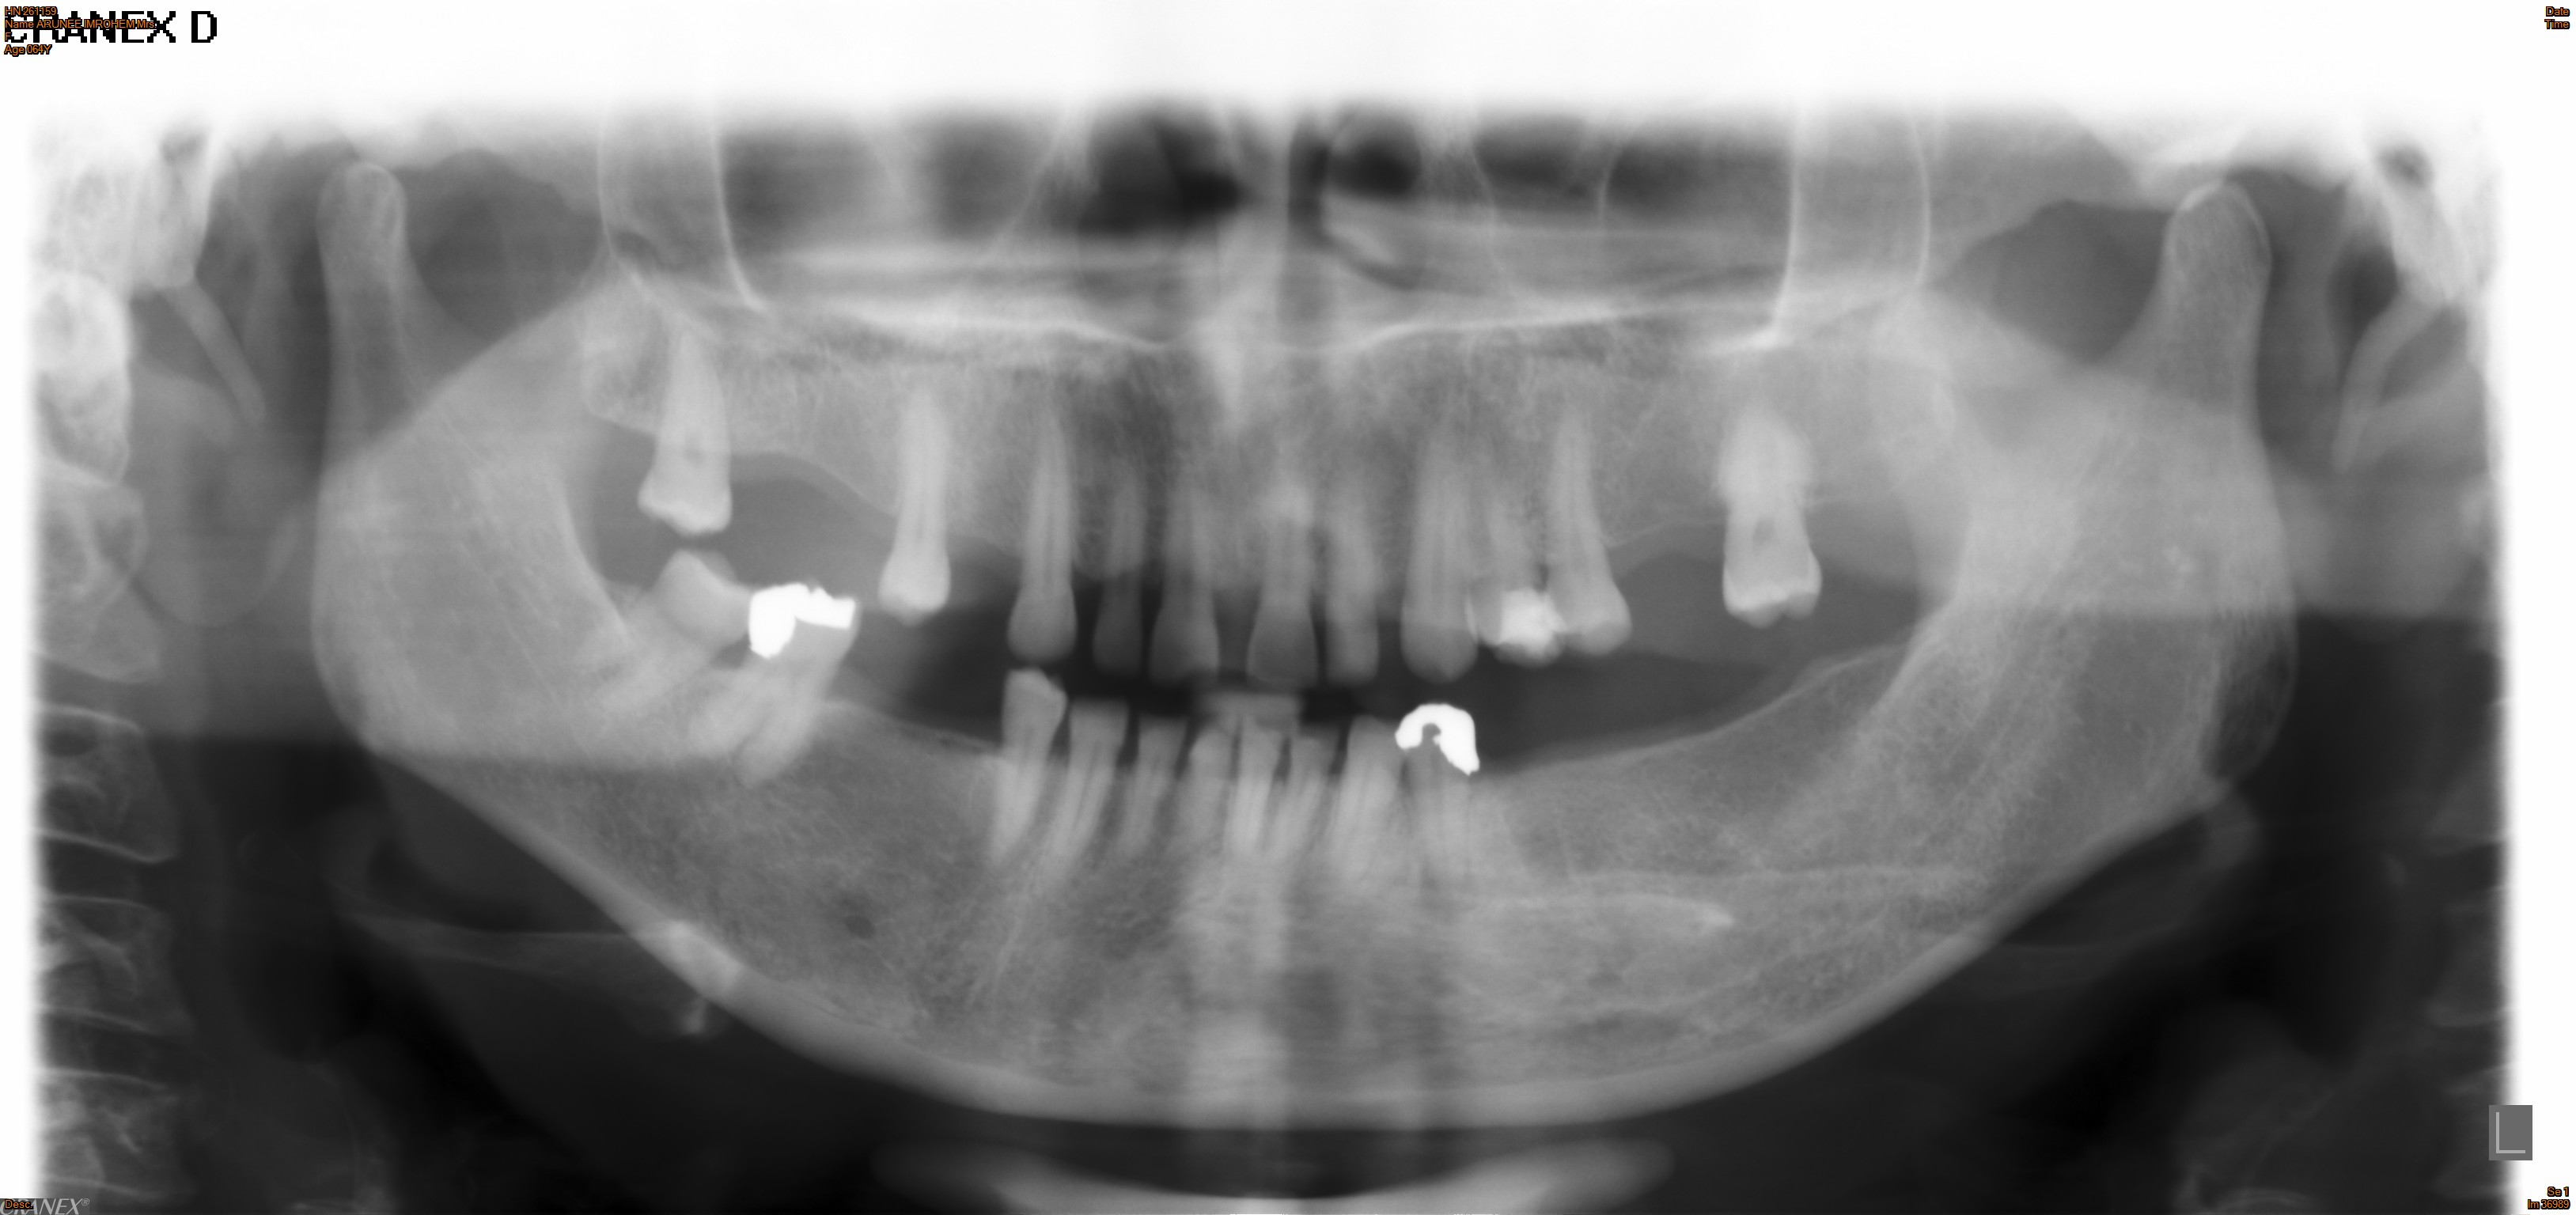periodontitis: (540, 550, 764, 739), (683, 576, 871, 796), (1694, 384, 1855, 634), (862, 360, 973, 635), (631, 302, 744, 542)
